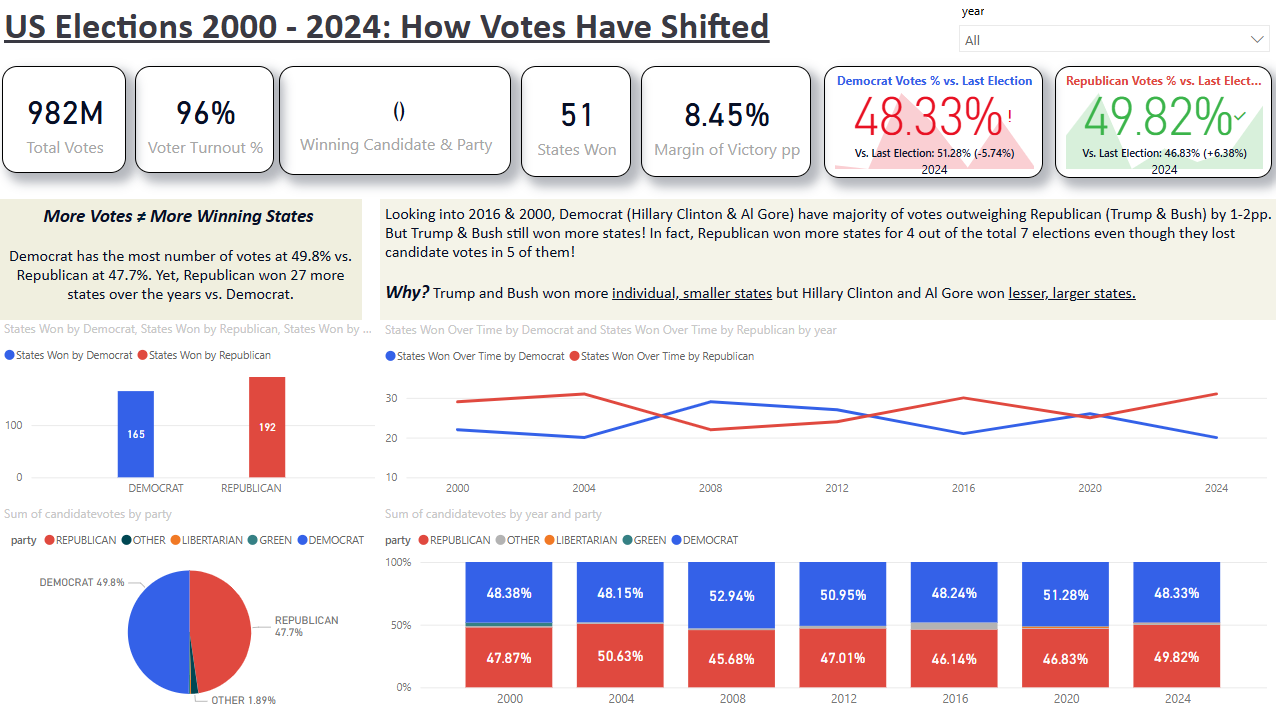

This screenshot's page, from the dashboard's own definition file:
{"tool":"powerbi","page":{"name":"National Level","canvas":[1280,720],"ordinal":0},"visuals":[{"type":"hundredPercentStackedColumnChart","fields":{"Category":["countypres_2000-2024.year"],"Series":["countypres_2000-2024.party"],"Y":["countypres_2000-2024.candidatevotes"]},"box":[381.4,508.5,891.5,211.9],"z":0},{"type":"pieChart","fields":{"Series":["countypres_2000-2024.party"],"Y":["countypres_2000-2024.candidatevotes"]},"box":[0,507.7,380.8,211.5],"z":1000},{"type":"textbox","box":[0,0,1212.7,69.8],"z":2000},{"type":"textbox","box":[0,201.9,363.5,121.2],"z":3000},{"type":"textbox","box":[380.8,201.9,900,121.2],"z":4000},{"type":"card","fields":{"Values":["countypres_2000-2024.Total Distinct Votes"]},"box":[3.4,69.5,123.7,106.8],"z":5000},{"type":"card","fields":{"Values":["countypres_2000-2024.Voter Turnout %"]},"box":[135.6,69.5,139,106.8],"z":6000},{"type":"slicer","fields":{"Values":["countypres_2000-2024.year"]},"box":[950,0,330.8,61.5],"z":7000},{"type":"kpi","title":"Democrat Votes % vs. Last Election","fields":{"TrendLine":["countypres_2000-2024.year"],"Indicator":["countypres_2000-2024.Votes %"],"Goal":["countypres_2000-2024.Votes % Last Election"]},"box":[825.4,69.5,218.6,111.9],"z":8000},{"type":"kpi","title":"Republican Votes % vs. Last Election","fields":{"TrendLine":["countypres_2000-2024.year"],"Indicator":["countypres_2000-2024.Votes %"],"Goal":["countypres_2000-2024.Votes % Last Election"]},"box":[1055.9,69.5,216.9,111.9],"z":9000},{"type":"card","fields":{"Values":["countypres_2000-2024.Winning Candidate & Party"]},"box":[279.7,69.5,232.2,108.5],"z":10000},{"type":"clusteredColumnChart","fields":{"Y":["countypres_2000-2024.States Won by Democrat","countypres_2000-2024.Total States Won by Republican"],"Category":["countypres_2000-2024.party"]},"box":[0,323.1,380.8,184.6],"z":11000},{"type":"lineChart","fields":{"Y":["countypres_2000-2024.States Won Over Time by Democrat","countypres_2000-2024.States Won Over Time by Republican"],"Category":["countypres_2000-2024.year"]},"box":[381.4,323.7,891.5,184.7],"z":12000},{"type":"card","fields":{"Values":["countypres_2000-2024.Margin of Victory %"]},"box":[642.4,69.5,169.5,110.2],"z":13000},{"type":"card","fields":{"Values":["countypres_2000-2024.States Won Over Time"]},"box":[522,69.5,110.2,110.2],"z":14000}]}

Visuals, with their boxes in screenshot pixels (x1, y1, x2, y2), scaled from the page's 1280x720 canvas onto the 1276x712 screenshot:
hundredPercentStackedColumnChart - countypres_2000-2024.year x countypres_2000-2024.party: (380, 503, 1269, 711)
pieChart - countypres_2000-2024.party x countypres_2000-2024.candidatevotes: (0, 502, 380, 711)
textbox: (0, 0, 1209, 69)
textbox: (0, 200, 362, 320)
textbox: (380, 200, 1275, 320)
card - countypres_2000-2024.Total Distinct Votes: (3, 69, 127, 174)
card - countypres_2000-2024.Voter Turnout %: (135, 69, 274, 174)
slicer - countypres_2000-2024.year: (947, 0, 1275, 61)
"Democrat Votes % vs. Last Election" kpi: (823, 69, 1041, 179)
"Republican Votes % vs. Last Election" kpi: (1053, 69, 1269, 179)
card - countypres_2000-2024.Winning Candidate & Party: (279, 69, 510, 176)
clusteredColumnChart - countypres_2000-2024.States Won by Democrat x countypres_2000-2024.Total States Won by Republican: (0, 320, 380, 502)
lineChart - countypres_2000-2024.States Won Over Time by Democrat x countypres_2000-2024.States Won Over Time by Republican: (380, 320, 1269, 503)
card - countypres_2000-2024.Margin of Victory %: (640, 69, 809, 178)
card - countypres_2000-2024.States Won Over Time: (520, 69, 630, 178)
